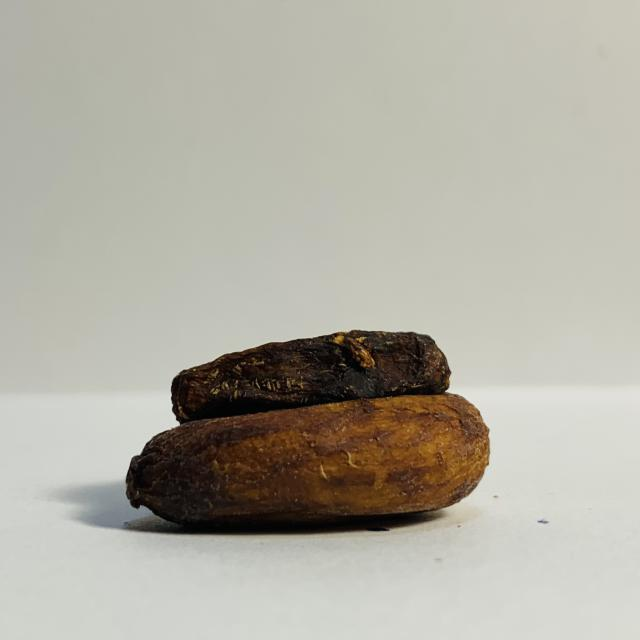Agglomerated_cocoabeans: (0, 302, 553, 575)
